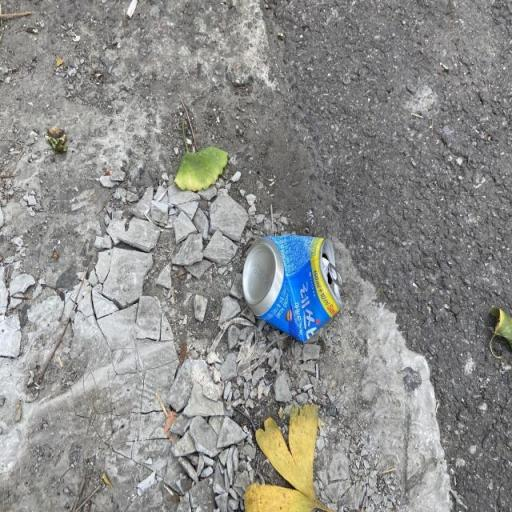metal: (224, 212, 370, 358)
